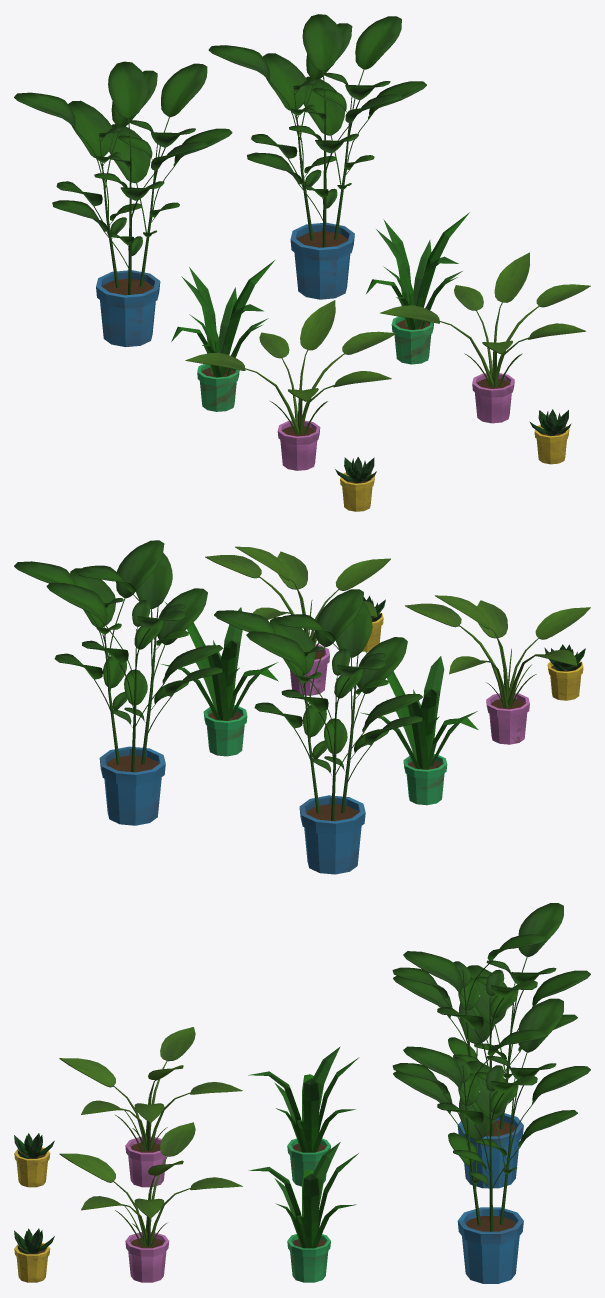
Rendered from PlantesSepareesFNL.fbx.
3 renders of one model, top to bottom at view 1: azimuth 30°, elevation 25°; view 2: azimuth 150°, elevation 25°; view 3: azimuth 270°, elevation 25°, orthographic. The views are drawn at different scales.
Parts seen in each view (by area): view 1: Plante2.001, Plante2.003, Plante1.003, Plante1.001, Plante2.004, Plante2.002, Plante3.001, Plante3.003, Plante1.002, Plante1.004, Plante3.004, Plante3.002 (+4 smaller); view 2: Plante2.001, Plante2.003, Plante1.003, Plante2.002, Plante2.004, Plante1.001, Plante3.003, Plante3.001, Plante1.004, Plante3.004, Plante3.002, Plante4.004 (+1 smaller); view 3: Plante2.001, Plante2.003, Plante1.003, Plante1.001, Plante2.002, Plante3.001, Plante3.003, Plante2.004, Plante1.002, Plante3.002, Plante1.004, Plante3.004 (+4 smaller).
Boxes of the visible parts, x1,y1,x2,y2 form: Plante2.001: (208, 14, 426, 247); Plante2.003: (14, 61, 232, 294); Plante1.003: (185, 300, 396, 434); Plante1.001: (380, 252, 590, 387); Plante2.004: (96, 270, 160, 347); Plante2.002: (290, 222, 354, 299); Plante3.001: (366, 212, 469, 329); Plante3.003: (171, 260, 274, 377); Plante1.002: (472, 373, 514, 423); Plante1.004: (277, 420, 320, 470); Plante3.004: (197, 364, 239, 411); Plante3.002: (391, 316, 433, 364); Plante2.001: (14, 540, 222, 772); Plante2.003: (214, 589, 422, 820); Plante1.003: (405, 595, 590, 707); Plante2.002: (99, 746, 165, 825); Plante2.004: (299, 795, 365, 874); Plante1.001: (205, 546, 390, 646); Plante3.003: (360, 650, 478, 769); Plante3.001: (161, 601, 278, 720); Plante1.004: (486, 693, 529, 744); Plante3.004: (403, 754, 447, 805); Plante3.002: (203, 705, 247, 756); Plante4.004: (547, 661, 583, 700); Plante2.001: (392, 998, 590, 1231); Plante2.003: (392, 903, 590, 1136); Plante1.003: (59, 1027, 242, 1151); Plante1.001: (59, 1122, 242, 1247); Plante2.002: (457, 1207, 523, 1283); Plante3.001: (248, 1142, 358, 1248); Plante3.003: (248, 1046, 359, 1152); Plante2.004: (457, 1113, 523, 1188); Plante1.002: (125, 1232, 169, 1282); Plante3.002: (287, 1234, 330, 1282); Plante1.004: (125, 1136, 166, 1187); Plante3.004: (287, 1138, 330, 1186).
Bounding box in the file's own units: 1046 × 655 × 1354.
